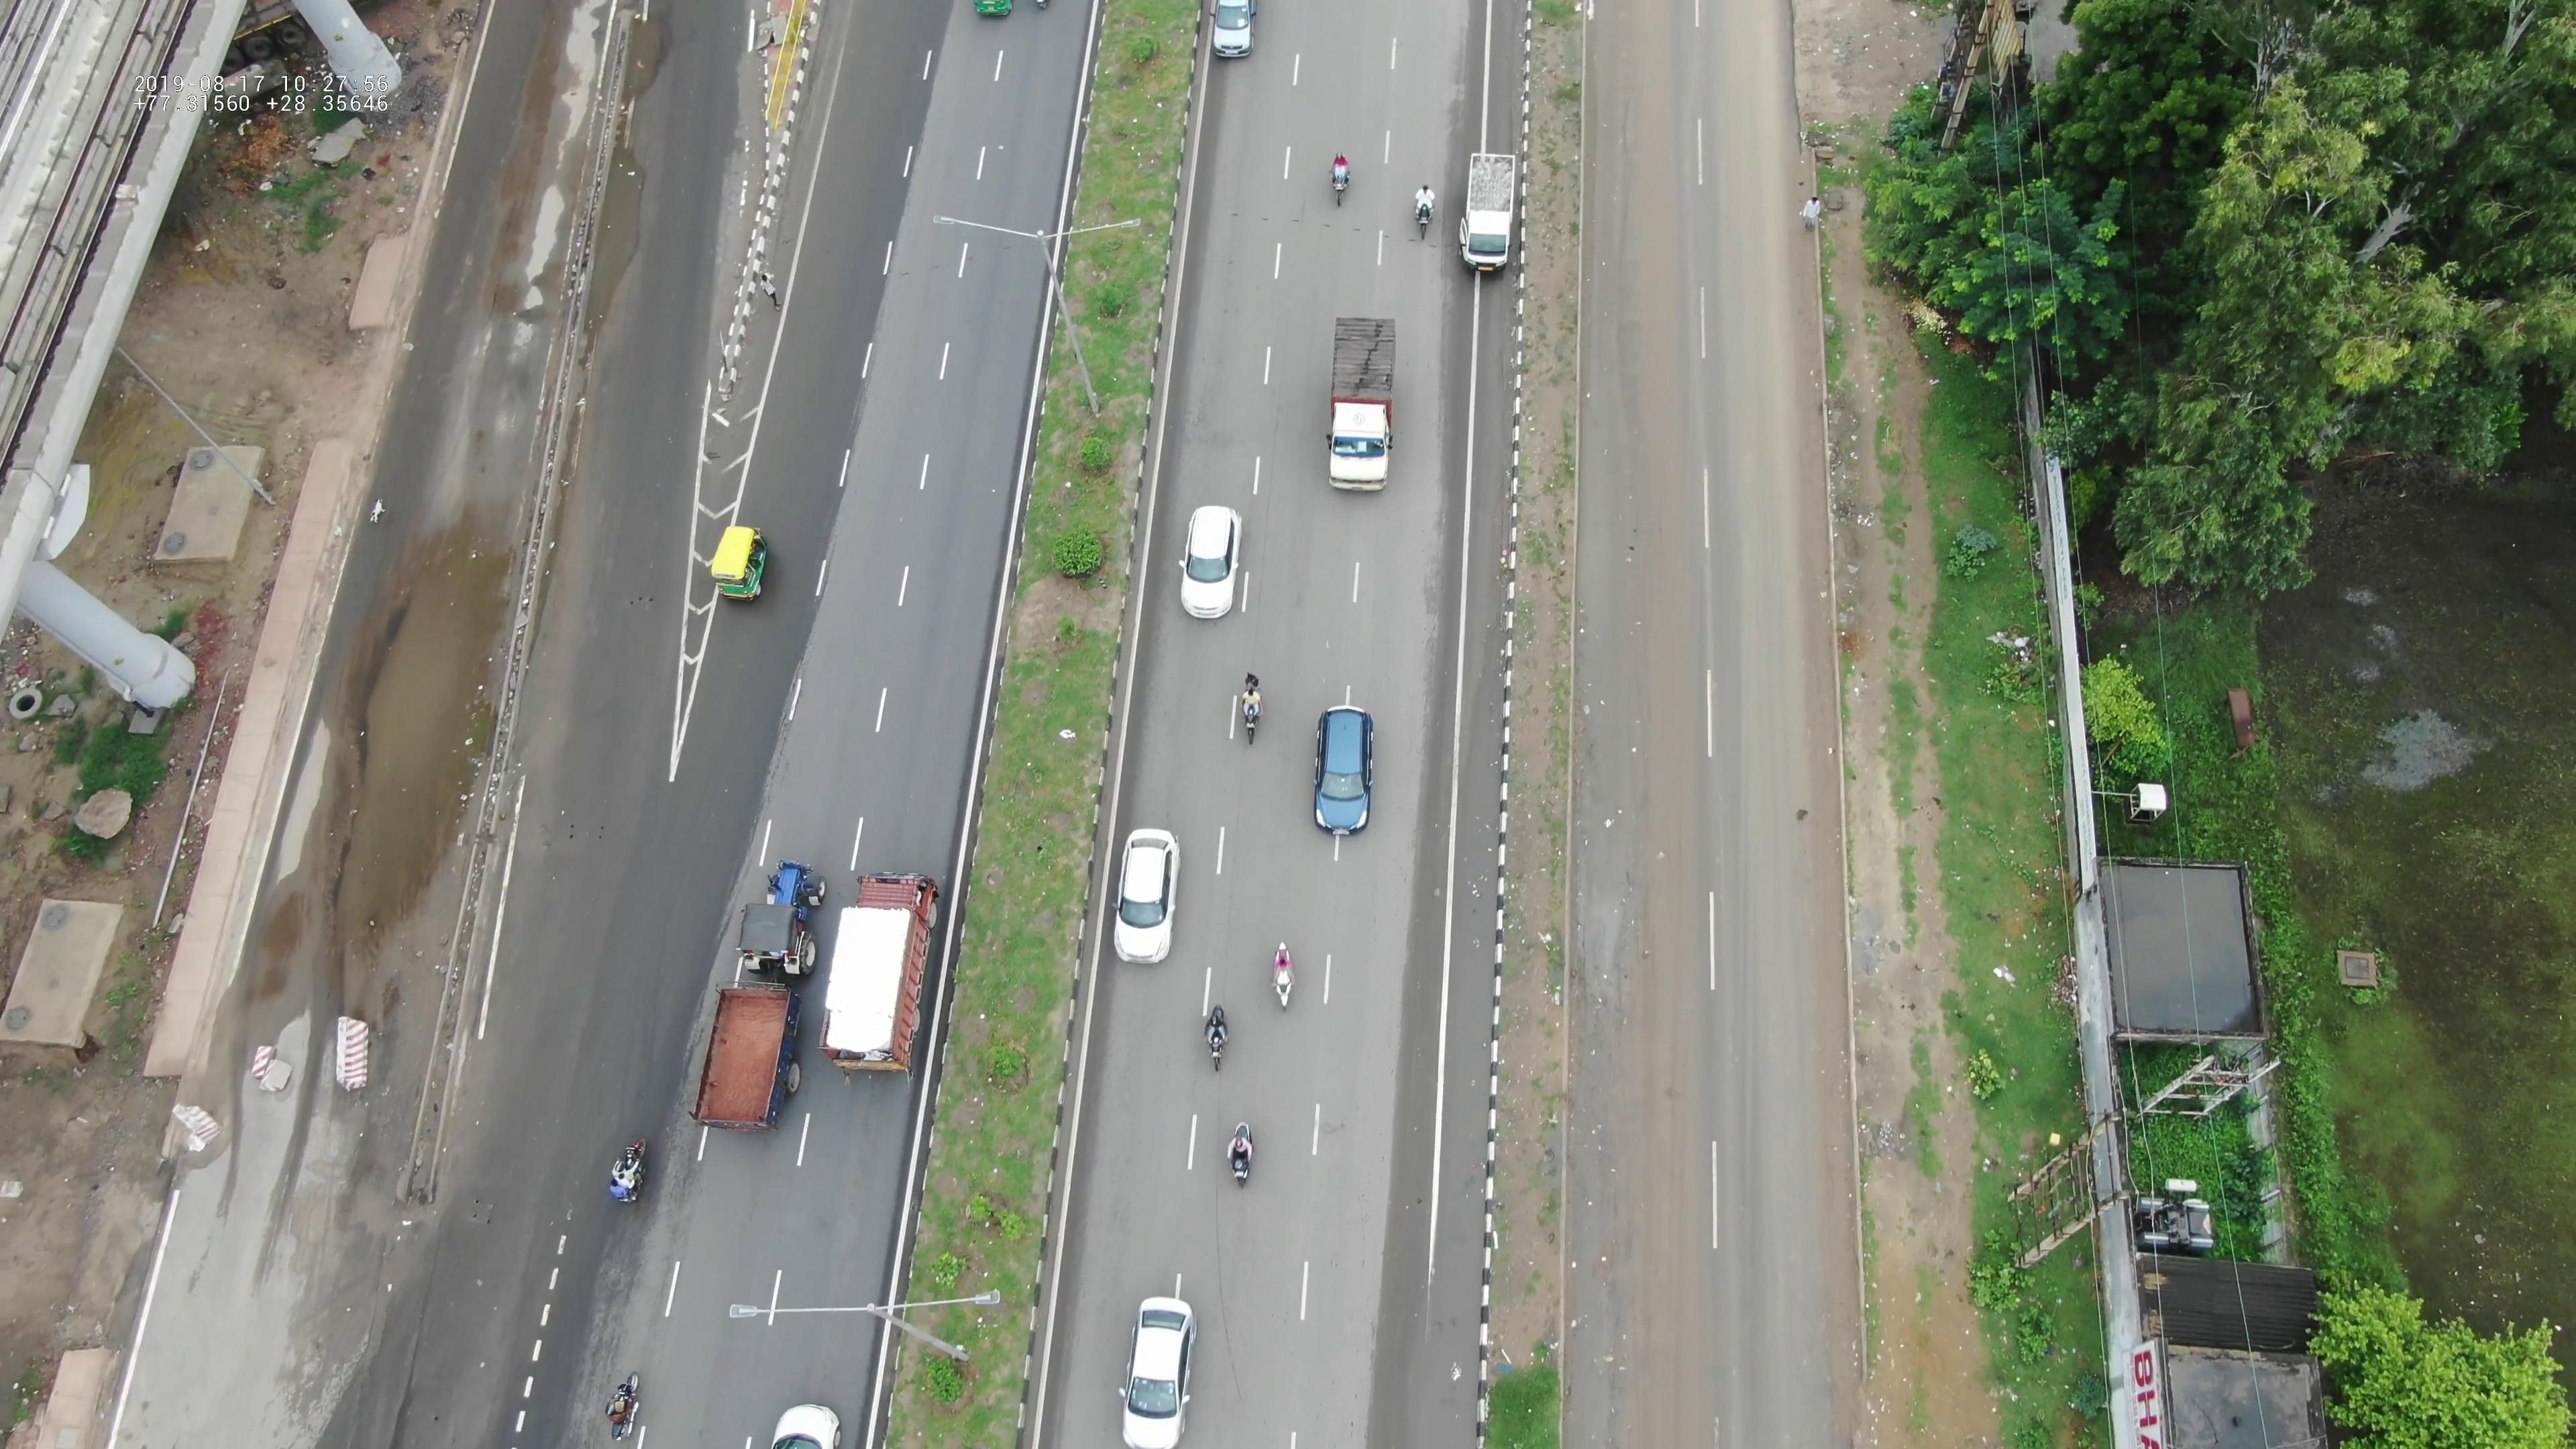Muddy_road: (1568, 1046, 1702, 1422), (1571, 655, 1697, 1016), (1580, 44, 1684, 326), (1583, 341, 1677, 628)
Waterlogging: (303, 556, 510, 892), (582, 142, 658, 372), (612, 4, 699, 104)
